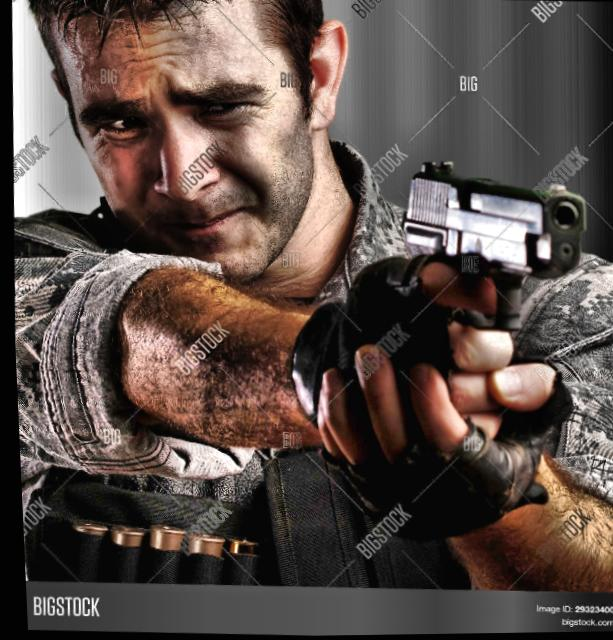pistol: (385, 156, 592, 377)
